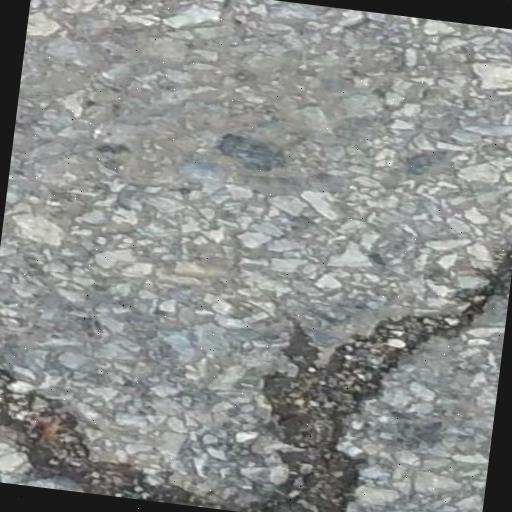spalling: (0, 209, 512, 512)
